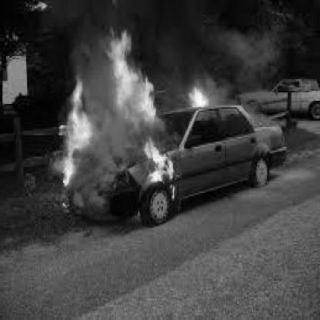Fire: (186, 80, 216, 112)
